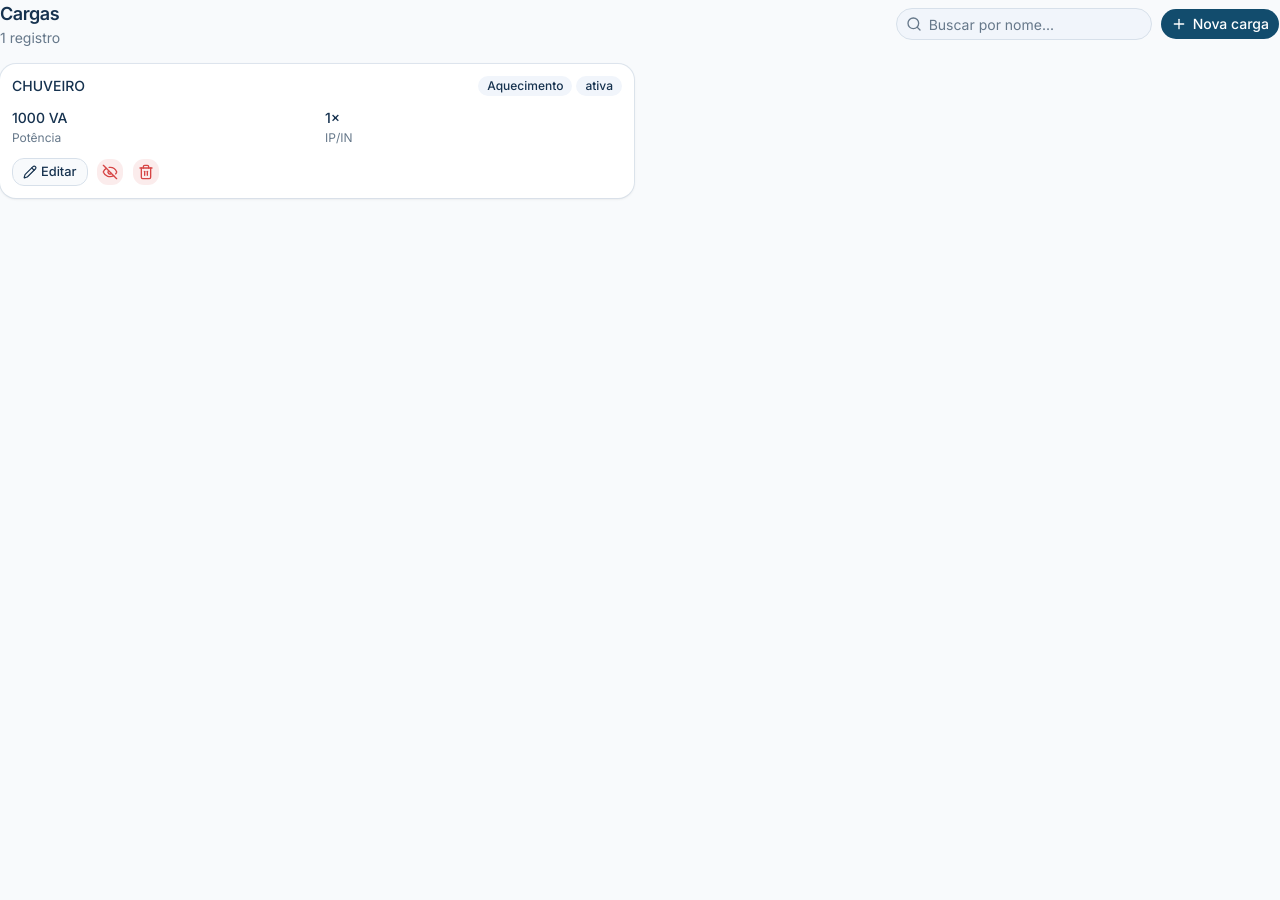
Test: LoadCatalogEditor: form › opens the form pre-filled when editing an existing row
The image size is (1280, 900).
Click the button "Editar". click: (50, 172)
box: [12,158,88,186]
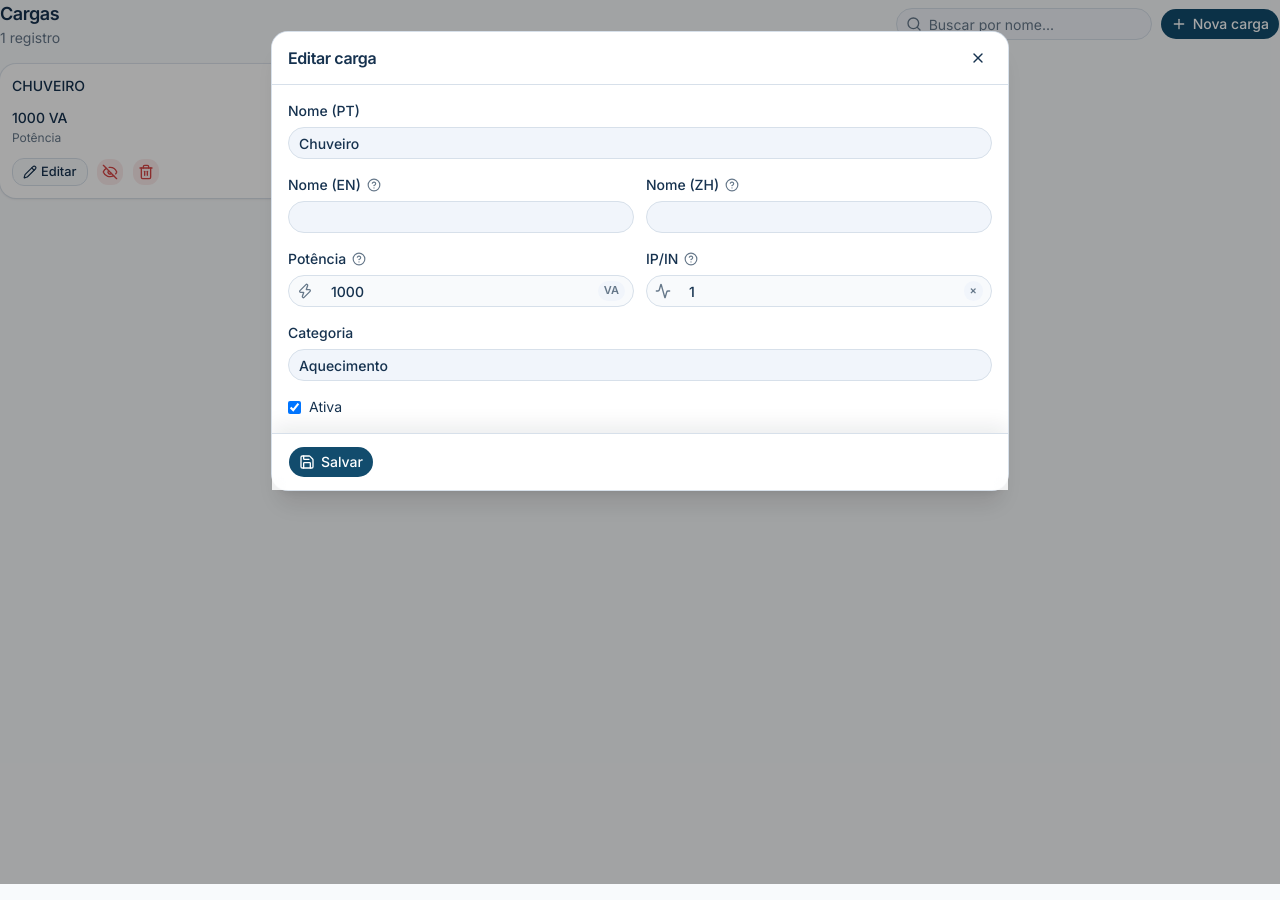
Check: the dialog "Editar carga" is shown, box [272,32,1008,490]
Check: the field showing "Chuveiro" is shown, box [288,127,992,159]
